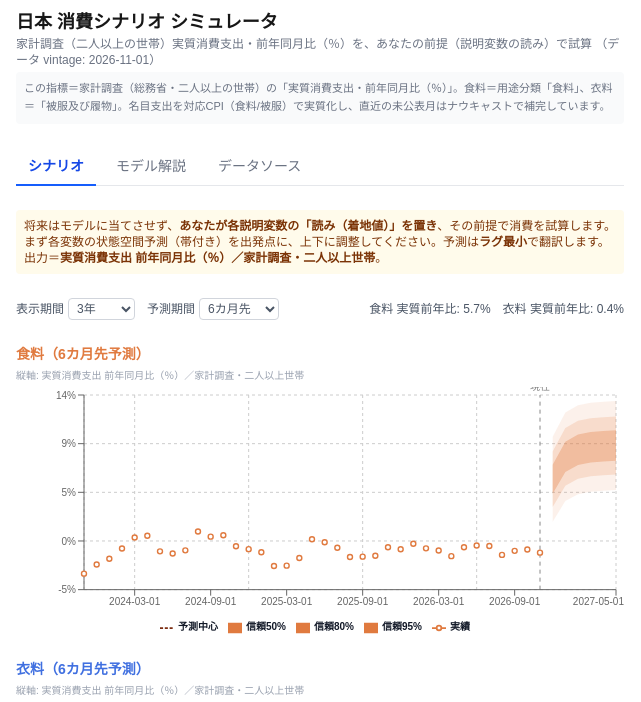
Dashboard tabs › switches to the model tab (explanation + backtest)
What coordinates should you click on to do the following:
click the tab "モデル解説"
I would click on:
 (151, 167)
Its box is [104,148,198,186].
(page scrolled)
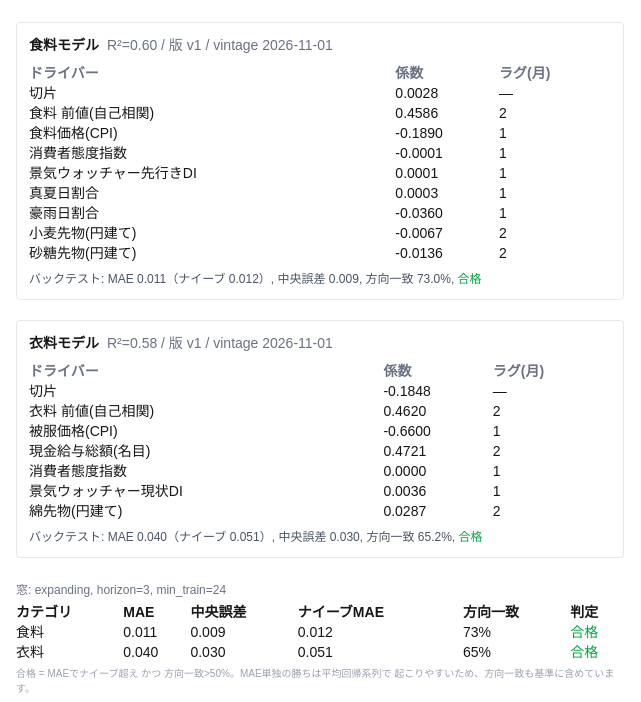
expect the element with test id "backtest-panel" is shown: met, box [16,582,624,696]
